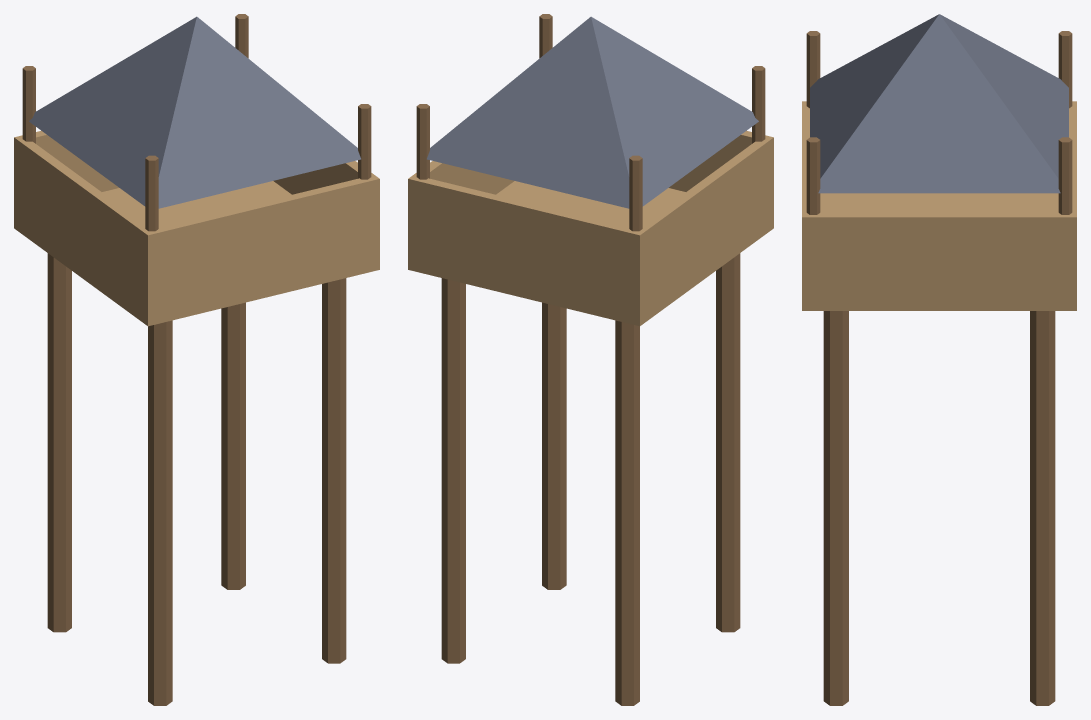
File: Torre.fbx
3 renders of one model, left to right at view 1: azimuth 30°, elevation 25°; view 2: azimuth 150°, elevation 25°; view 3: azimuth 270°, elevation 25°, orthographic. The views are drawn at different scales.
Visible parts, largest first — view 1: Torre; view 2: Torre; view 3: Torre.
Boxes of the visible parts, bbox=[...] form: Torre: bbox=[14, 14, 379, 705]; Torre: bbox=[408, 14, 773, 705]; Torre: bbox=[802, 14, 1076, 705].
Size of the model in its own units: 2.4 by 6.2 by 2.4.
